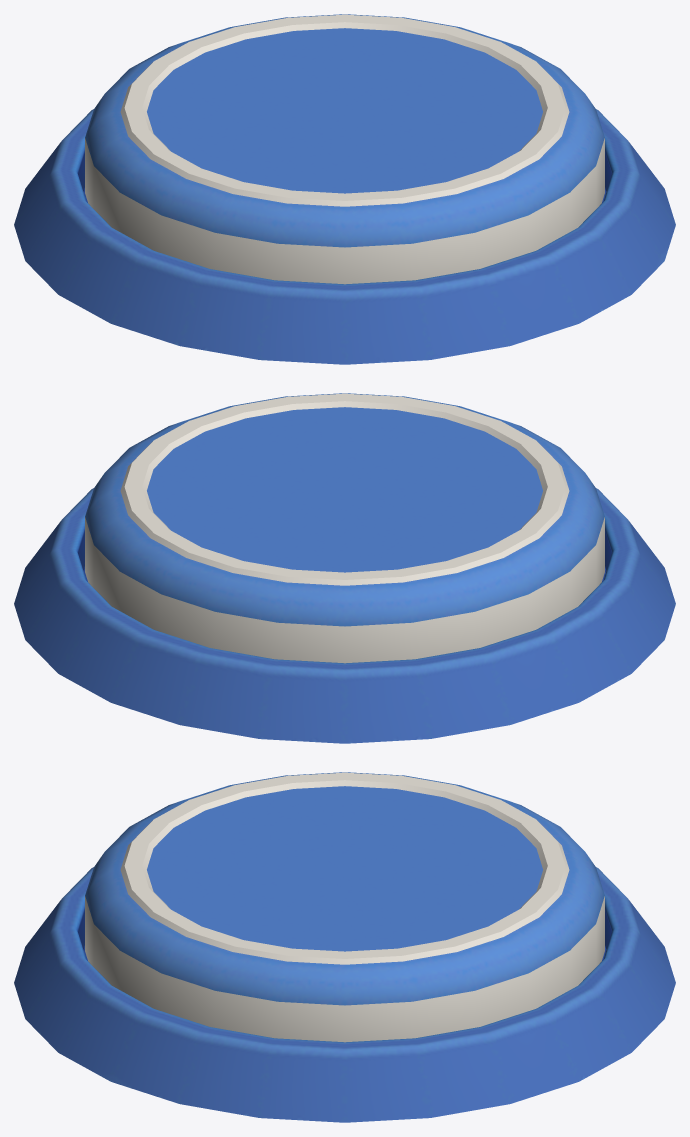
File: Button.fbx
The picture shows the model from 3 angles, top to bottom: view 1: azimuth 30°, elevation 25°; view 2: azimuth 150°, elevation 25°; view 3: azimuth 270°, elevation 25°; orthographic projection.
Parts seen in each view (by area): view 1: Button_1; view 2: Button_1; view 3: Button_1.
Boxes of the visible parts, x1,y1,x2,y2 form: Button_1: [14, 14, 675, 364]; Button_1: [14, 393, 675, 743]; Button_1: [14, 772, 675, 1122].
Size of the model in its own units: 47.15 by 9.2 by 47.15.
